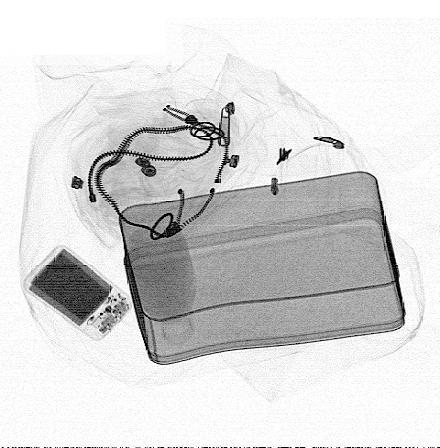Powerbank: (23, 244, 134, 342)
